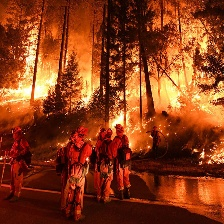fire: (5, 22, 69, 109), (111, 88, 156, 138), (165, 84, 223, 122), (77, 69, 106, 113), (190, 138, 224, 169)
